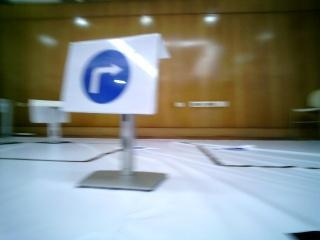right: (63, 43, 149, 109)
